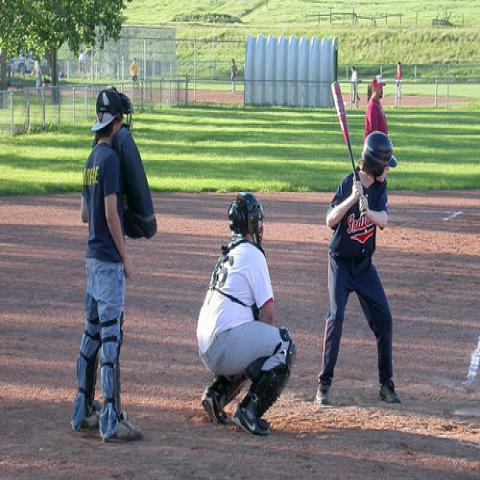car: (10, 51, 62, 73)
